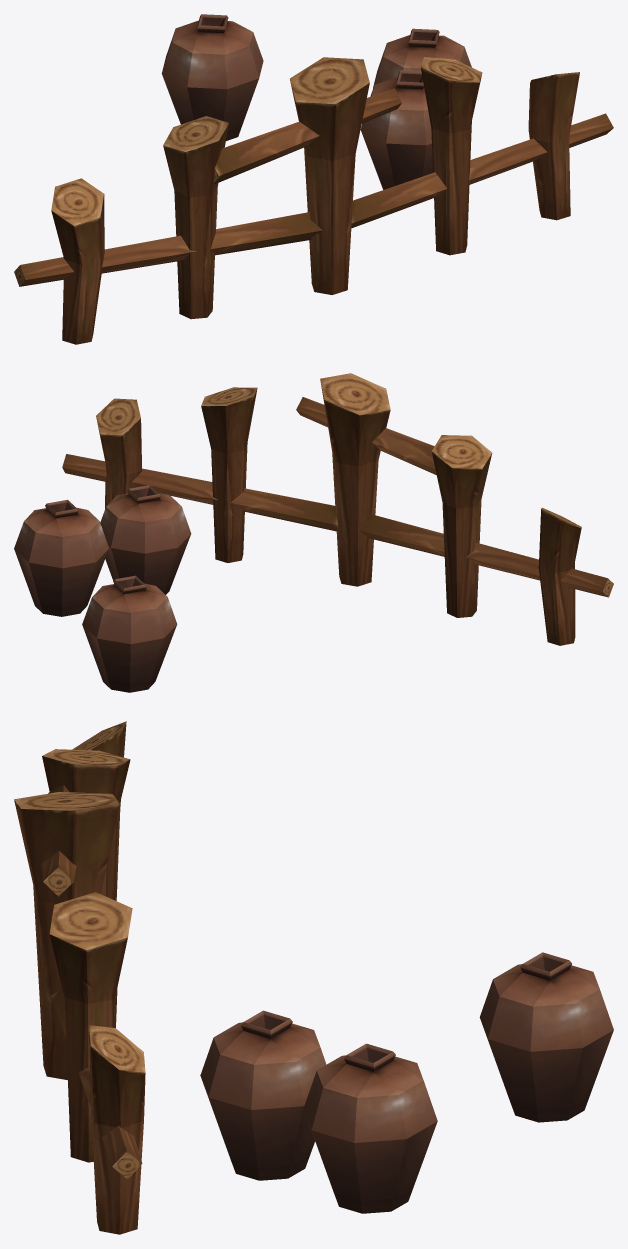
The model's file is cunlou_xiaowujian15.FBX.
3 renders of one model, top to bottom at view 1: azimuth 30°, elevation 25°; view 2: azimuth 150°, elevation 25°; view 3: azimuth 270°, elevation 25°, orthographic. The views are drawn at different scales.
Parts seen in each view (by area): view 1: cunlou_xiaowujian15; view 2: cunlou_xiaowujian15; view 3: cunlou_xiaowujian15.
Boxes of the visible parts, bbox=[...] form: cunlou_xiaowujian15: bbox=[14, 14, 613, 344]; cunlou_xiaowujian15: bbox=[14, 373, 613, 692]; cunlou_xiaowujian15: bbox=[14, 721, 613, 1234].
Bounding box in the file's own units: 231 × 80.15 × 154.
